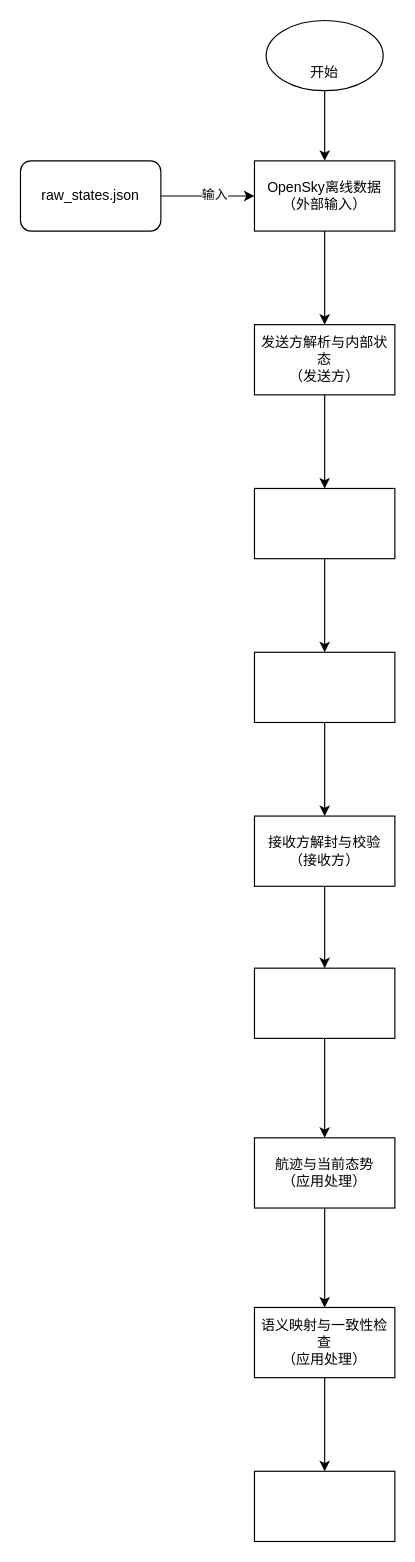
Image size: 415x1562. Some labels were removed from this diagram. Here are the shapes that lost their labels. From the top down, the centre of each, then its label:
(324,523): 教学消息封装 （中间数据）
(324,686): 模拟传输 （链路）
(324,1002): CSV/SQLite （可选存储）
(324,1505): 态势结果与告警 （最终输出）
